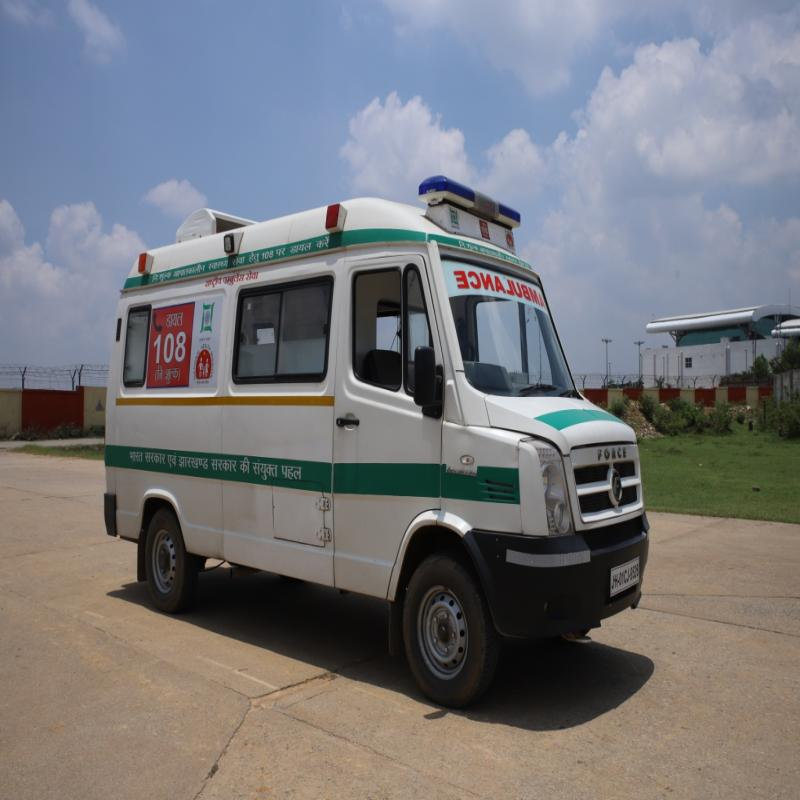AmbulanceSiren: (415, 157, 544, 237)
ambulance: (95, 157, 656, 718)
